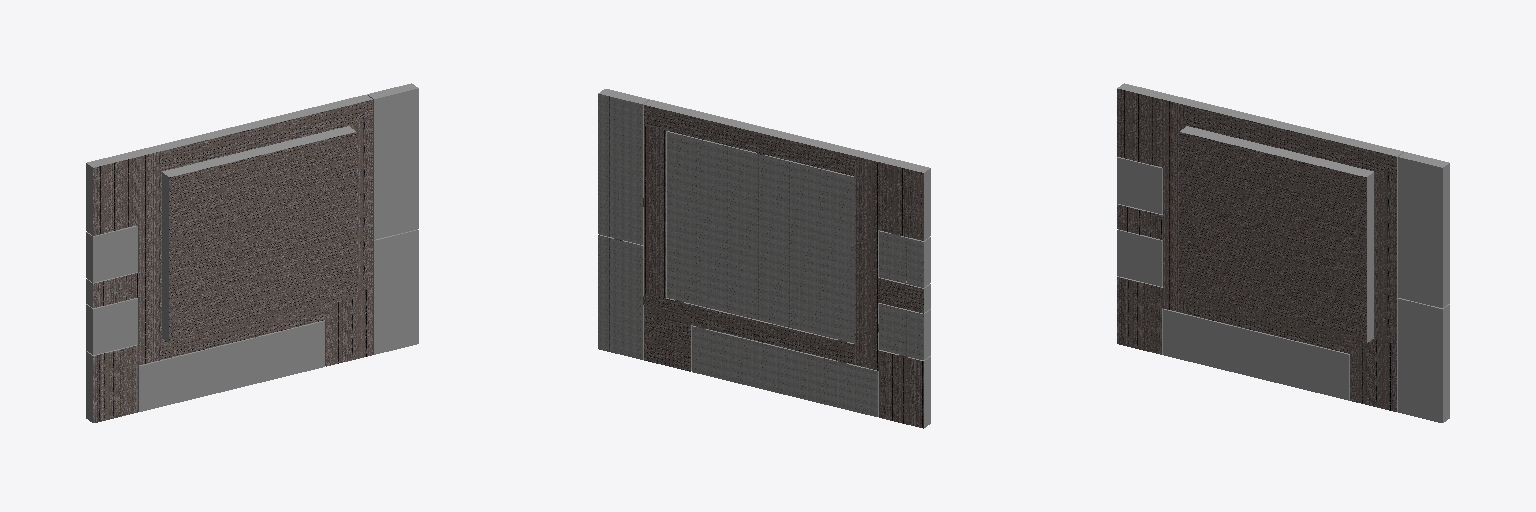
3 views of the same model, side by side, from view 1: azimuth 30°, elevation 25°; view 2: azimuth 150°, elevation 25°; view 3: azimuth 330°, elevation 25° (orthographic).
Parts seen in each view (by area): view 1: Museum_Cube.009_RoomsCeiling_NONE, Museum_Cube.009_RoomsWall, Museum_Cube.009_CorridoorCeiling, Museum_Cube.009_CorridoorWall; view 2: Museum_Cube.009_RoomsFloor, Museum_Cube.009_CorridoorFloor, Museum_Cube.009_CorridoorWall, Museum_Cube.009_RoomsWall; view 3: Museum_Cube.009_RoomsCeiling_NONE, Museum_Cube.009_RoomsWall, Museum_Cube.009_CorridoorCeiling, Museum_Cube.009_CorridoorWall.
Boxes of the visible parts, box(x1,y1,x2,y2) form: Museum_Cube.009_RoomsCeiling_NONE: box(169, 132, 356, 343); Museum_Cube.009_RoomsWall: box(86, 83, 418, 411); Museum_Cube.009_CorridoorCeiling: box(93, 100, 372, 422); Museum_Cube.009_CorridoorWall: box(86, 95, 372, 422); Museum_Cube.009_RoomsFloor: box(598, 94, 923, 416); Museum_Cube.009_CorridoorFloor: box(644, 105, 923, 428); Museum_Cube.009_CorridoorWall: box(644, 100, 930, 427); Museum_Cube.009_RoomsWall: box(598, 89, 930, 416); Museum_Cube.009_RoomsCeiling_NONE: box(1179, 132, 1366, 343); Museum_Cube.009_RoomsWall: box(1117, 126, 1449, 422); Museum_Cube.009_CorridoorCeiling: box(1117, 89, 1396, 411); Museum_Cube.009_CorridoorWall: box(1117, 83, 1403, 411).
Bounding box in the file's own units: 80 × 60 × 6.
Materials: 10 (3 with a texture image).